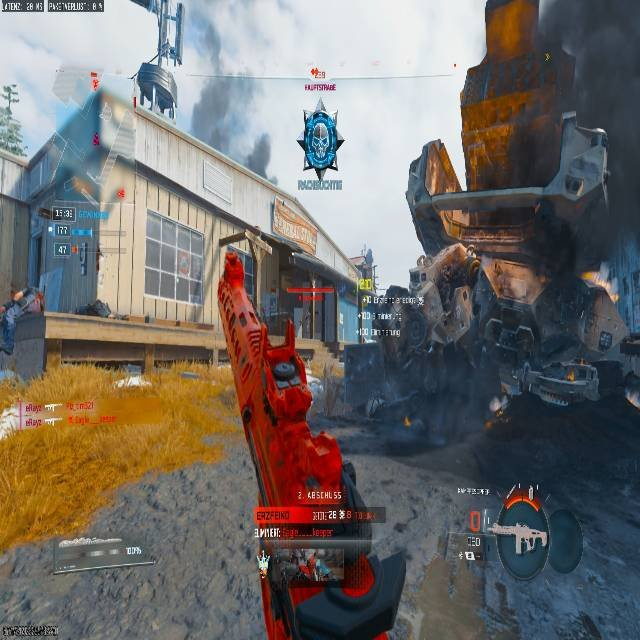player: (295, 110, 344, 176)
